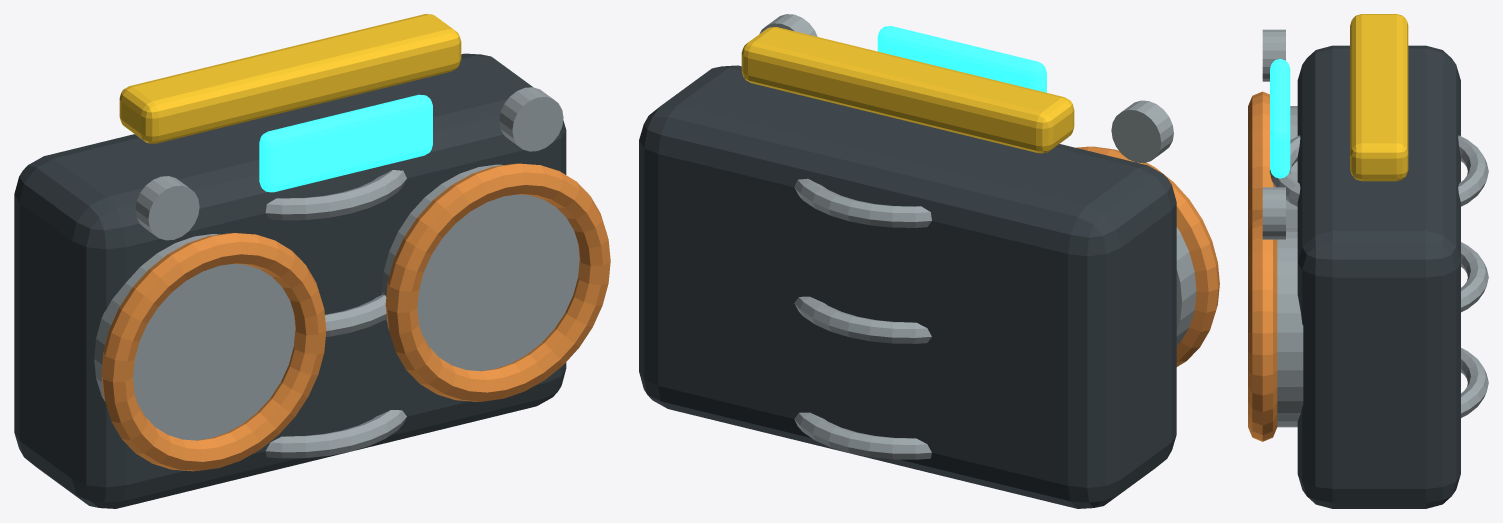
File: boombox_variant_c.glb
The picture shows the model from 3 angles, left to right: view 1: azimuth 30°, elevation 25°; view 2: azimuth 150°, elevation 25°; view 3: azimuth 270°, elevation 25°; orthographic projection. The views are drawn at different scales.
Parts seen in each view (by area): view 1: Speaker cabinet, Speaker cone, Speaker cone.001, Handle, Speaker surround, Speaker surround.001, Display, Service ring, Service ring.001, Control knob, Control knob.001, Service ring.002; view 2: Speaker cabinet, Handle, Display, Speaker surround.001, Service ring, Service ring.001, Service ring.002, Control knob.001, Speaker cone, Control knob; view 3: Speaker cabinet, Handle, Speaker surround, Speaker cone.001, Speaker surround.001, Display, Service ring, Service ring.002, Service ring.001, Control knob, Control knob.001, Speaker cone.
Boxes of the visible parts, bbox=[...] form: Speaker cabinet: bbox=[14, 53, 566, 508]; Speaker cone: bbox=[94, 234, 295, 440]; Speaker cone.001: bbox=[382, 164, 579, 370]; Handle: bbox=[119, 14, 461, 143]; Speaker surround: bbox=[385, 163, 610, 401]; Speaker surround.001: bbox=[101, 233, 326, 471]; Display: bbox=[259, 94, 432, 192]; Service ring: bbox=[265, 170, 406, 220]; Service ring.001: bbox=[265, 410, 406, 458]; Control knob: bbox=[499, 87, 563, 151]; Control knob.001: bbox=[135, 176, 199, 240]; Service ring.002: bbox=[325, 295, 386, 336]; Speaker cabinet: bbox=[639, 65, 1176, 508]; Handle: bbox=[741, 27, 1074, 153]; Display: bbox=[877, 26, 1046, 92]; Speaker surround.001: bbox=[1076, 146, 1219, 366]; Service ring: bbox=[794, 178, 931, 227]; Service ring.001: bbox=[794, 412, 931, 459]; Service ring.002: bbox=[794, 296, 931, 343]; Control knob.001: bbox=[1111, 100, 1173, 163]; Speaker cone: bbox=[1176, 227, 1196, 345]; Control knob: bbox=[759, 14, 817, 36]; Speaker cabinet: bbox=[1297, 45, 1460, 508]; Handle: bbox=[1350, 14, 1408, 181]; Speaker surround: bbox=[1248, 215, 1277, 441]; Speaker cone.001: bbox=[1277, 229, 1303, 427]; Speaker surround.001: bbox=[1248, 91, 1274, 228]; Display: bbox=[1270, 59, 1290, 178]; Service ring: bbox=[1269, 135, 1488, 206]; Service ring.002: bbox=[1461, 242, 1488, 312]; Service ring.001: bbox=[1461, 348, 1488, 417]; Control knob: bbox=[1262, 187, 1285, 239]; Control knob.001: bbox=[1262, 29, 1285, 81]; Speaker cone: bbox=[1286, 106, 1297, 229].
Size of what is drawn, in the model's own units: 0.89 by 0.635 by 0.413.
